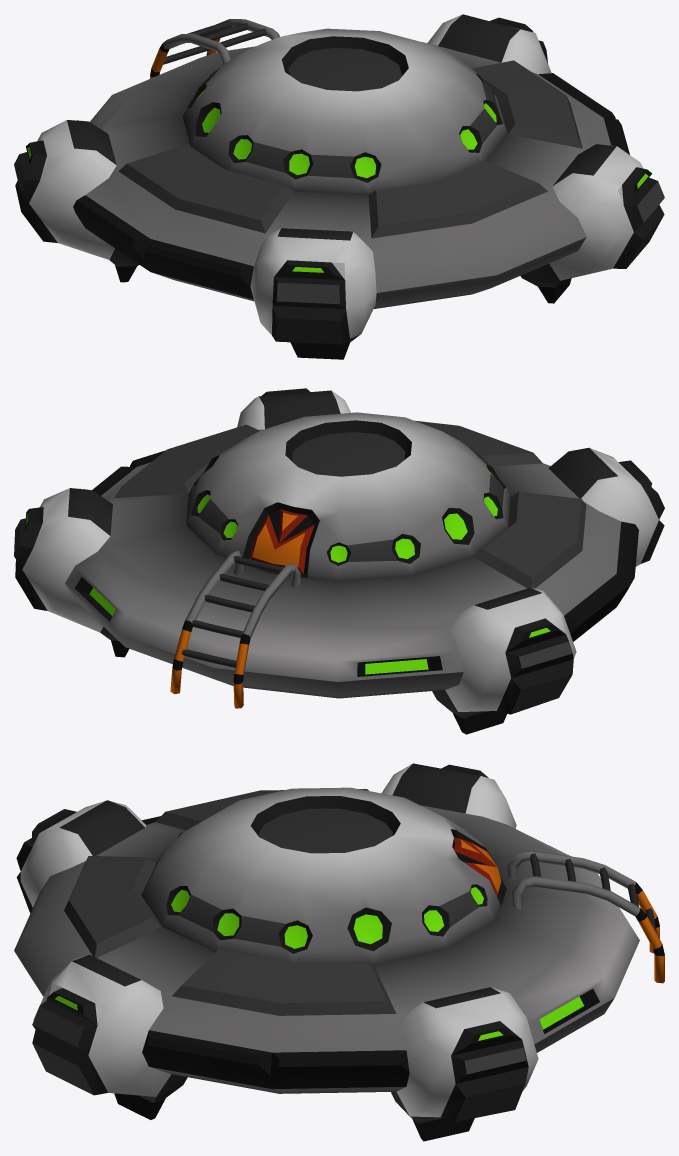
Rendered from Alien_Ship.fbx.
3 renders of one model, top to bottom at view 1: azimuth 30°, elevation 25°; view 2: azimuth 150°, elevation 25°; view 3: azimuth 270°, elevation 25°, orthographic. The views are drawn at different scales.
Parts seen in each view (by area): view 1: Alien_Ship; view 2: Alien_Ship; view 3: Alien_Ship.
Part boxes in pixels (x1,y1,x2,y2): Alien_Ship: (14, 14, 664, 359); Alien_Ship: (14, 388, 664, 734); Alien_Ship: (14, 763, 664, 1141).
Bounding box in the file's own units: 7014 × 2483 × 6678.
